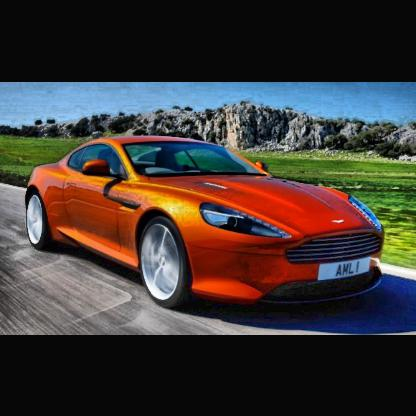Aston Martin Virage Coupe 2012: (25, 134, 388, 313)
